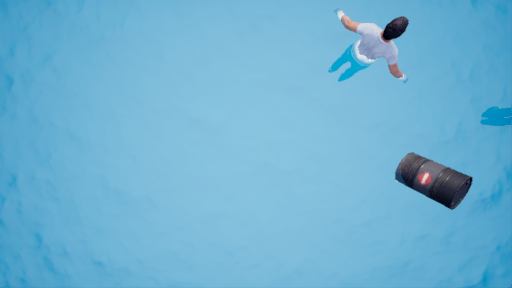person: (321, 8, 415, 89)
